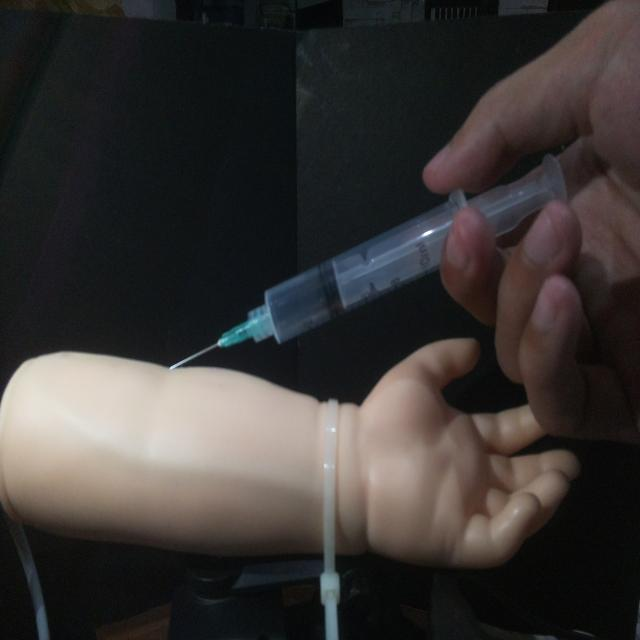23deg: (164, 146, 574, 373)
